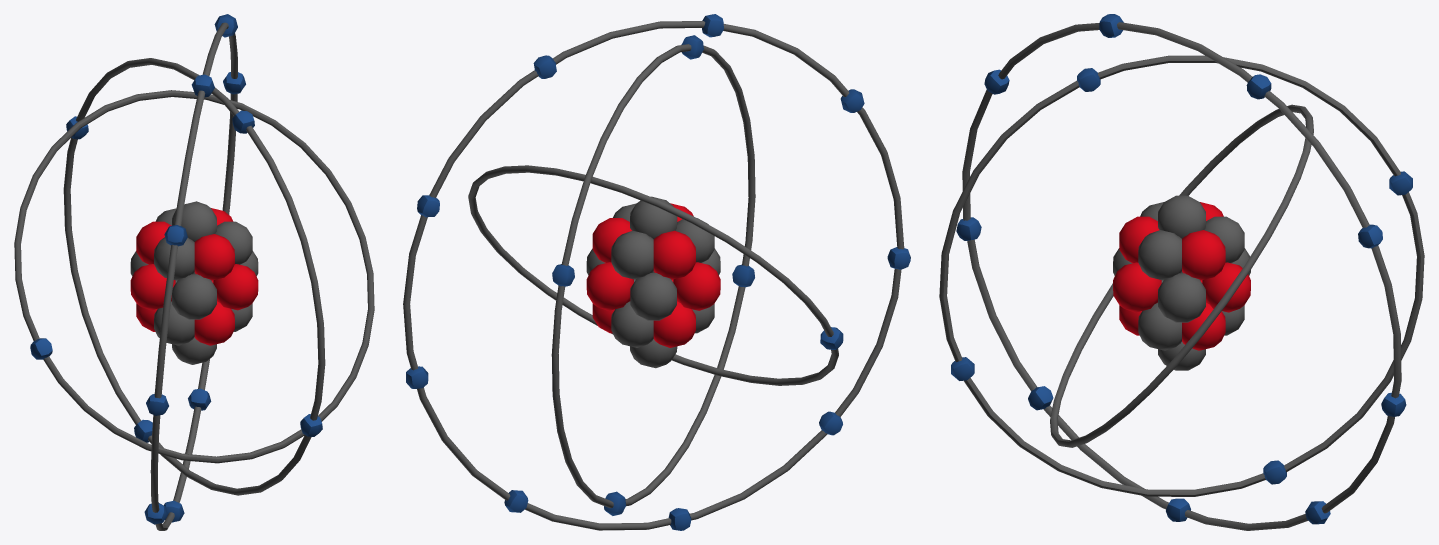
The picture shows the model from 3 angles, left to right: view 1: azimuth 30°, elevation 25°; view 2: azimuth 150°, elevation 25°; view 3: azimuth 270°, elevation 25°; orthographic projection. The views are drawn at different scales.
Parts seen in each view (by area): view 1: ElectronShells (×3), Neutron (×6), Proton (×5); view 2: ElectronShells (×3), Neutron (×6), Proton (×5); view 3: ElectronShells (×3), Neutron (×6), Proton (×5).
Part boxes in pixels (x1,y1,x2,y2): ElectronShells (×3): [14, 22, 374, 530]; Neutron (×6): [154, 201, 252, 364]; Proton (×5): [130, 221, 258, 345]; ElectronShells (×3): [403, 21, 904, 530]; Neutron (×6): [611, 196, 714, 368]; Proton (×5): [586, 218, 720, 347]; ElectronShells (×3): [939, 22, 1424, 530]; Neutron (×6): [1138, 195, 1244, 370]; Proton (×5): [1113, 216, 1250, 350].
Size of the model in its own units: 1.24 by 1.64 by 1.42.
